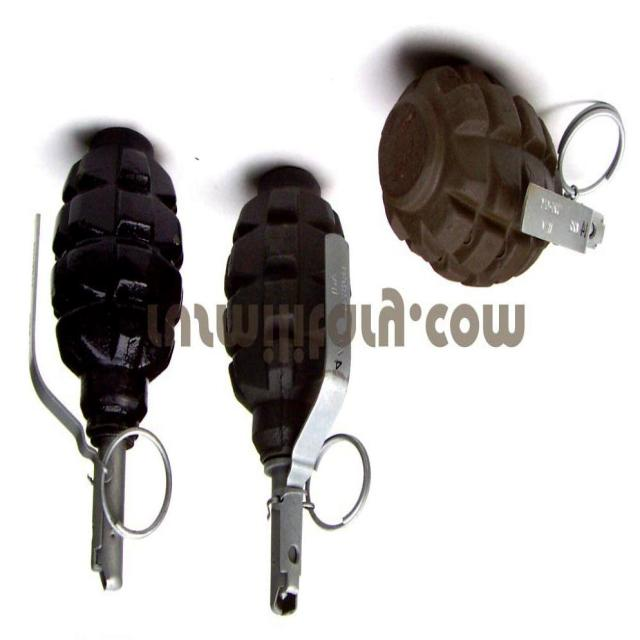grenade: (29, 126, 185, 591), (224, 166, 373, 616), (379, 57, 627, 287)
